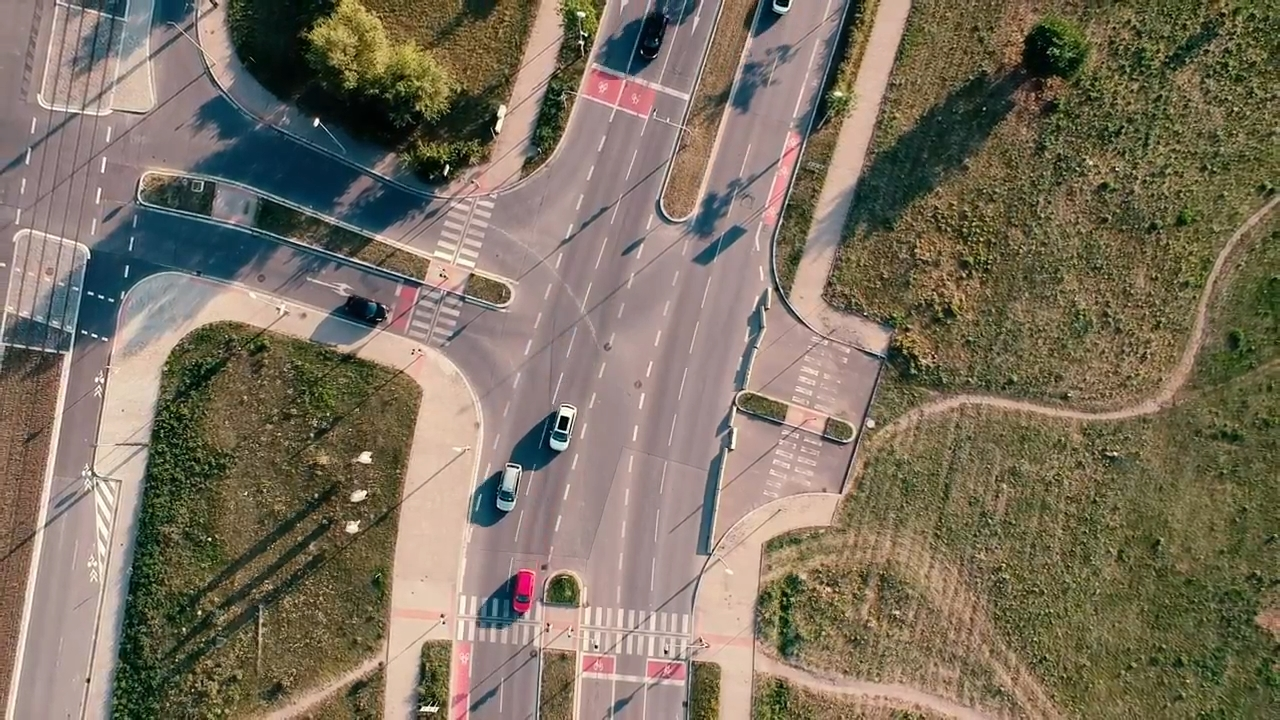car: (637, 9, 670, 59), (345, 292, 389, 324), (495, 459, 522, 511), (549, 402, 577, 450), (514, 566, 536, 615), (771, 1, 792, 15)
